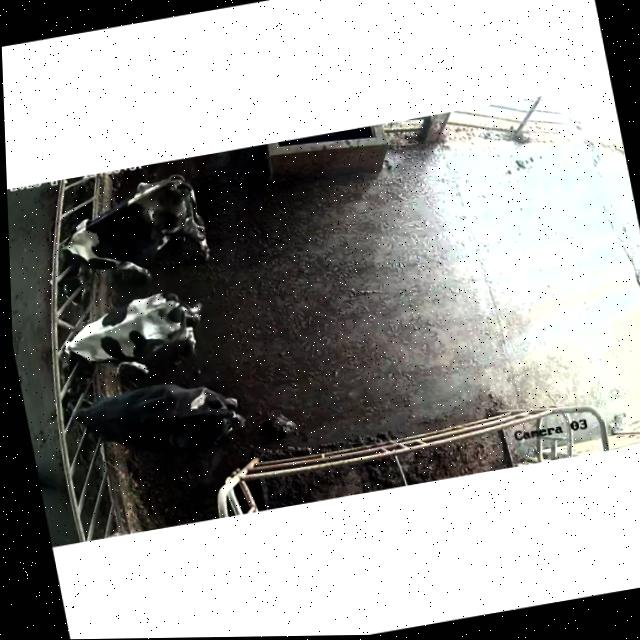eat: (19, 218, 130, 302), (39, 372, 125, 445), (36, 316, 117, 383)
